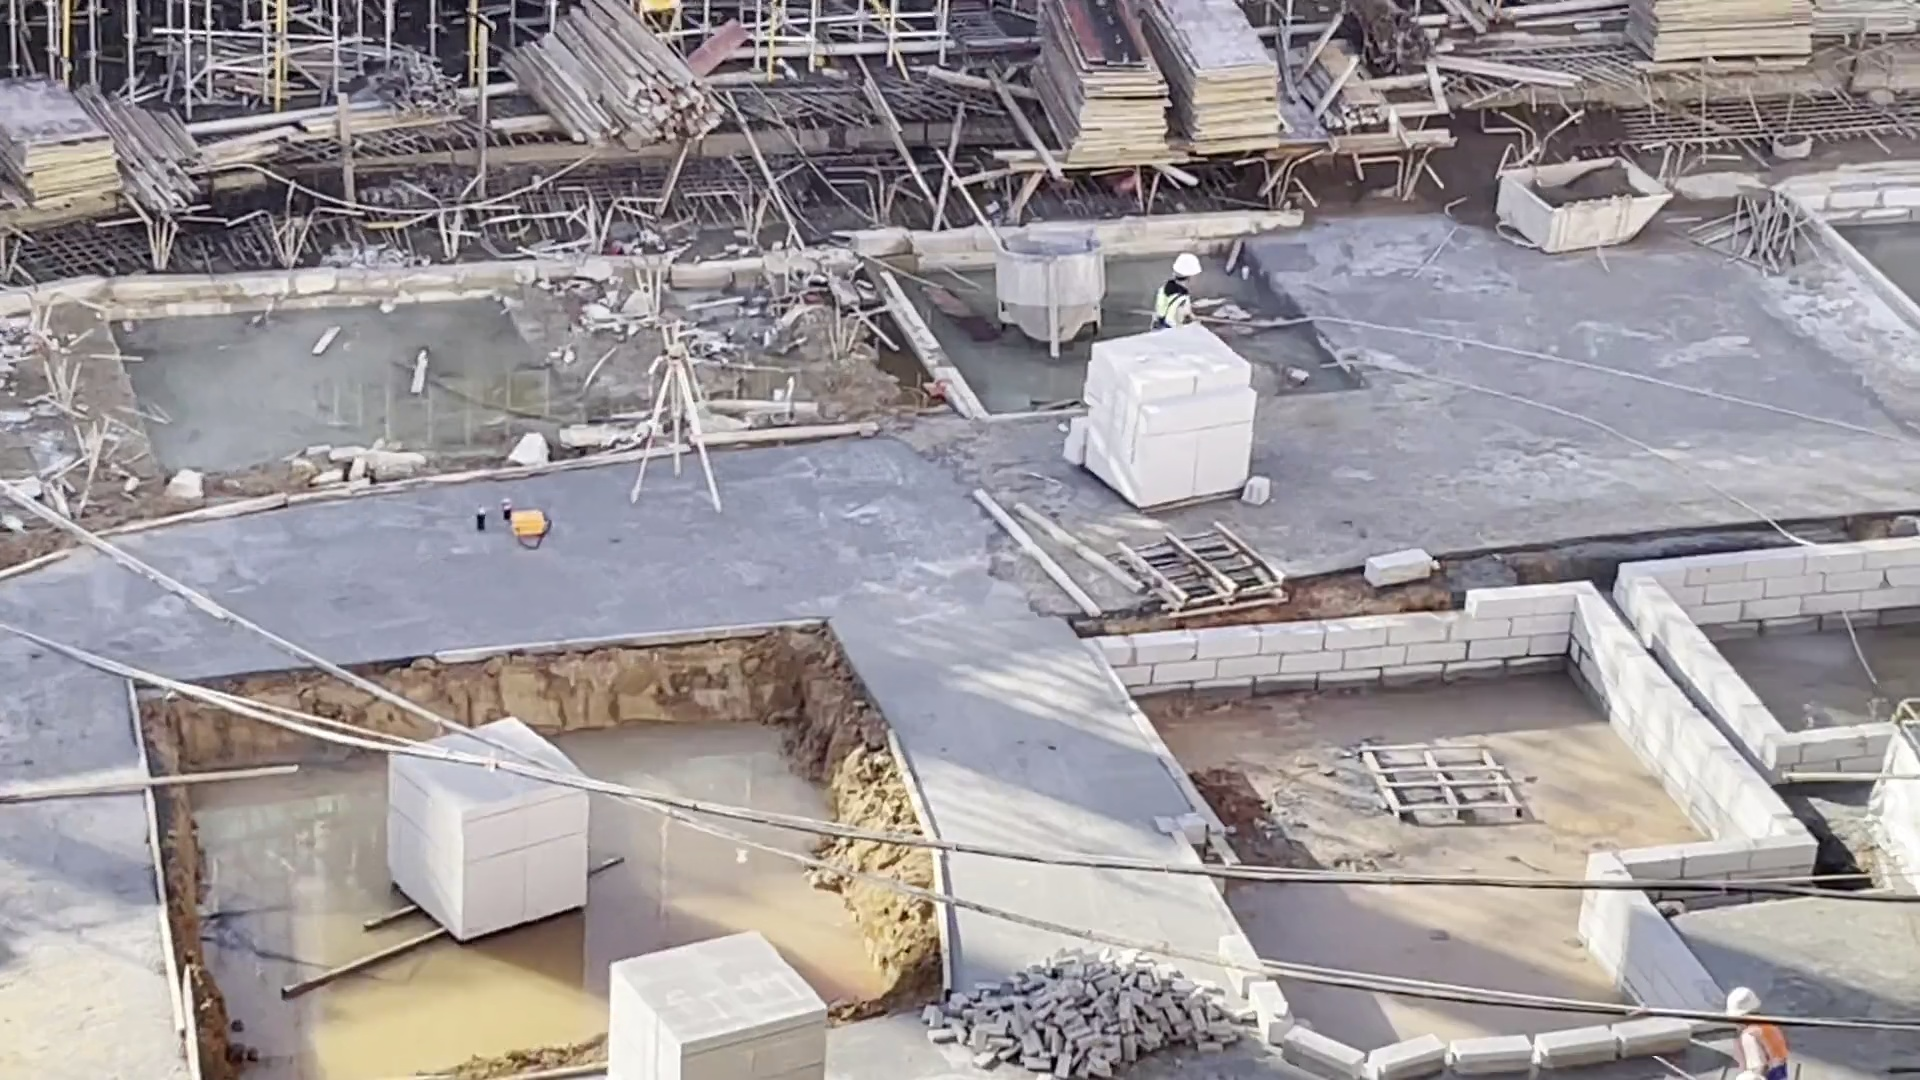board: (1017, 2, 1171, 171), (1143, 1, 1288, 158), (4, 82, 130, 215), (1621, 4, 1815, 78)
brick: (599, 930, 823, 1080), (382, 786, 594, 946), (1089, 330, 1254, 512)
helmet: (1170, 250, 1205, 278), (1727, 987, 1759, 1015)
hopper: (1491, 158, 1677, 254), (987, 224, 1102, 356)
person: (1151, 250, 1205, 327)
vest: (1745, 1022, 1792, 1080), (1154, 285, 1192, 327)
wood: (496, 2, 732, 152), (126, 105, 214, 226)
